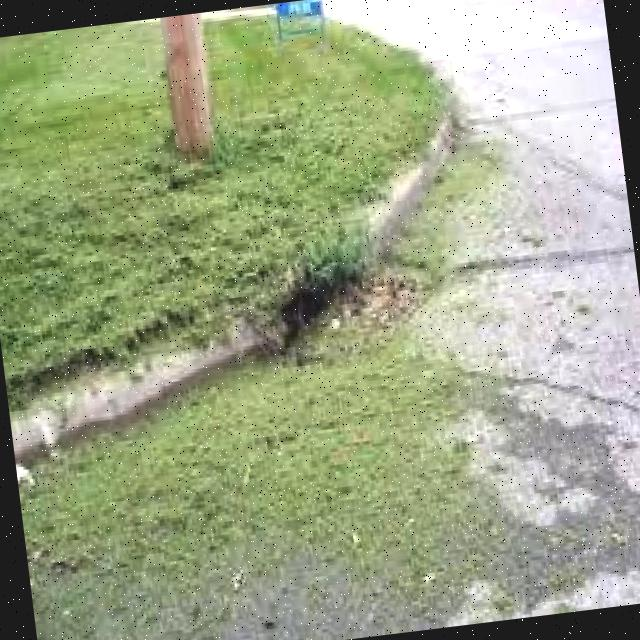curb: (1, 303, 324, 444), (347, 116, 480, 243)
